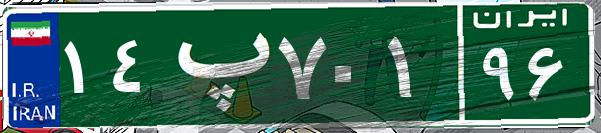0: (330, 28, 385, 110)
1: (385, 28, 445, 110), (57, 26, 110, 107)
4: (110, 28, 158, 105)
6: (525, 38, 570, 115)
7: (273, 28, 330, 110)
9: (475, 38, 525, 113)
پ: (158, 15, 273, 115)
